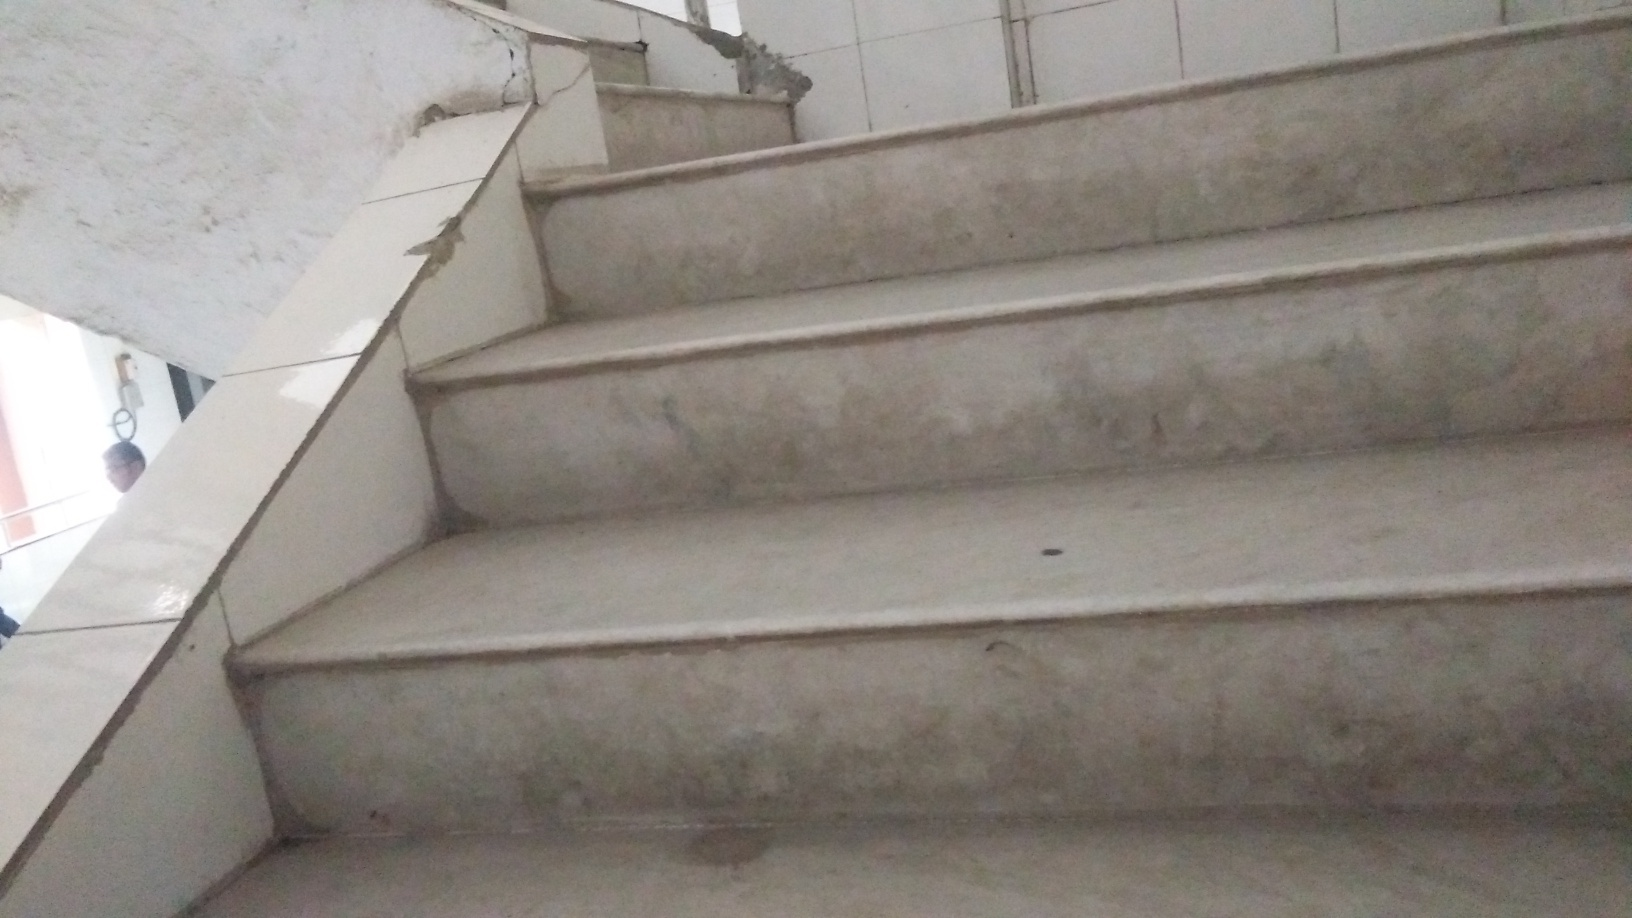stairs_up: (195, 20, 1632, 917)
